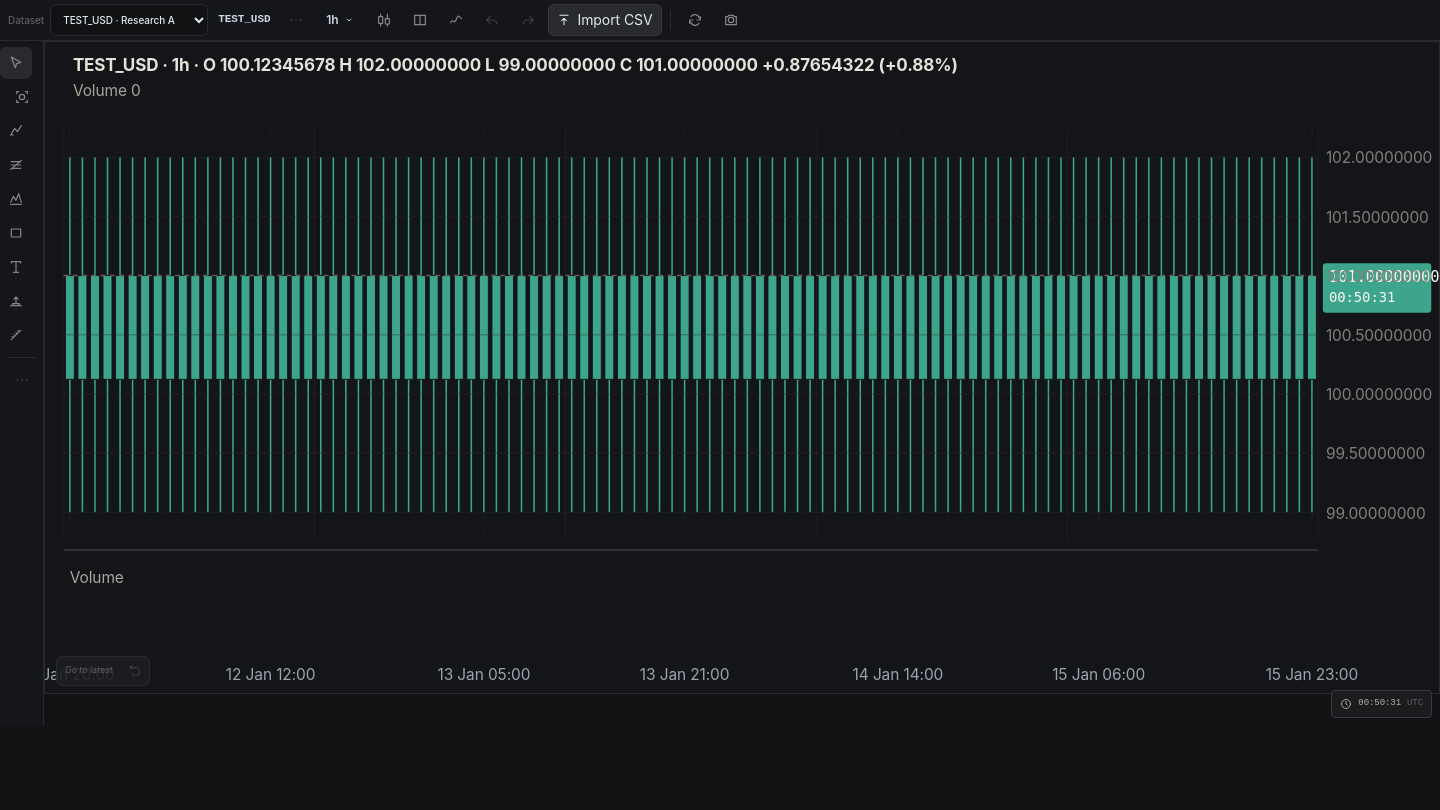
Test case: PB-006 private market UI (API contract mocks) › retains editable CSV after definite validation rejection and shows line diagnostics
Click the button "Import CSV" at point(605, 20), box [548,4,662,36]
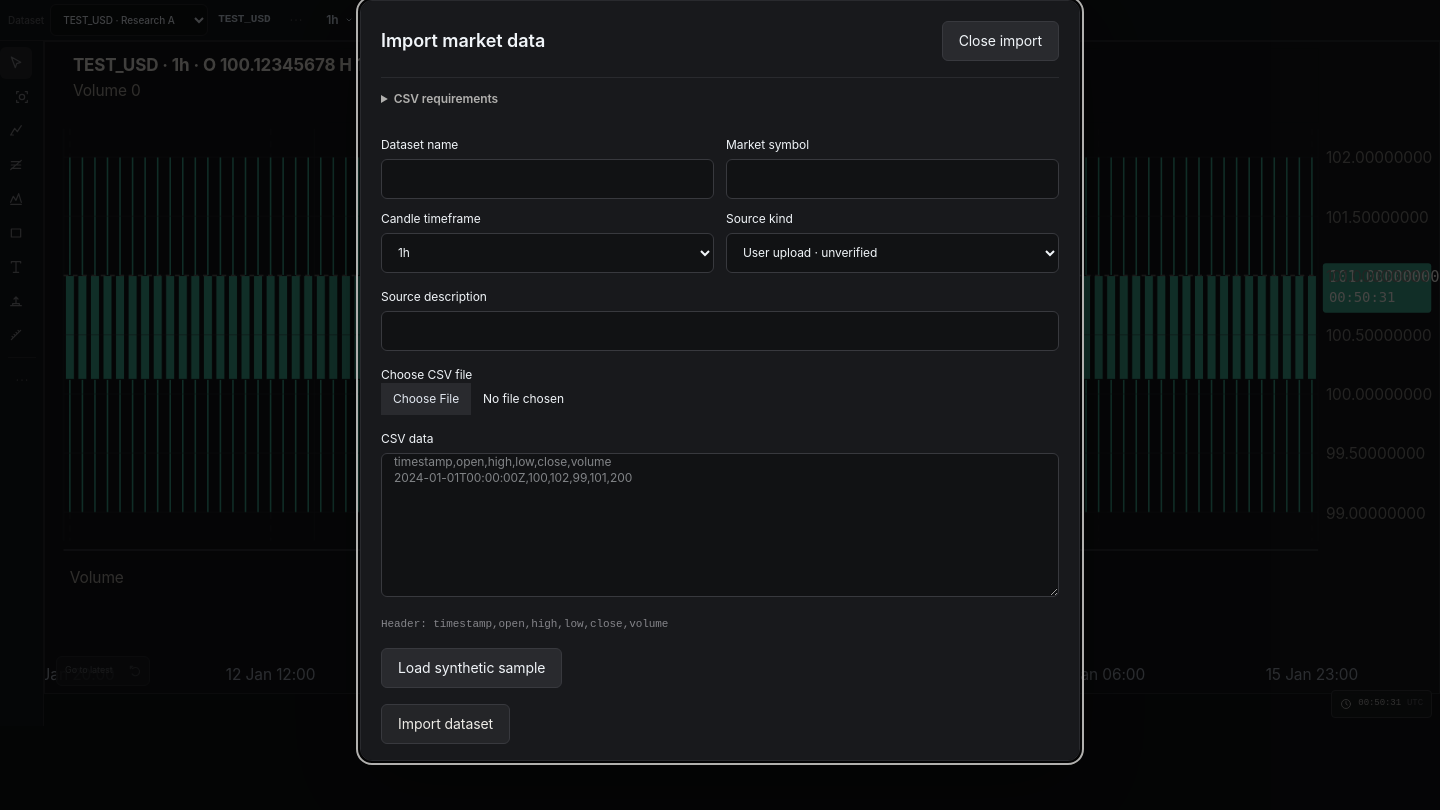
Click the button "Load synthetic sample" at point(472, 668), box [381,648,562,688]
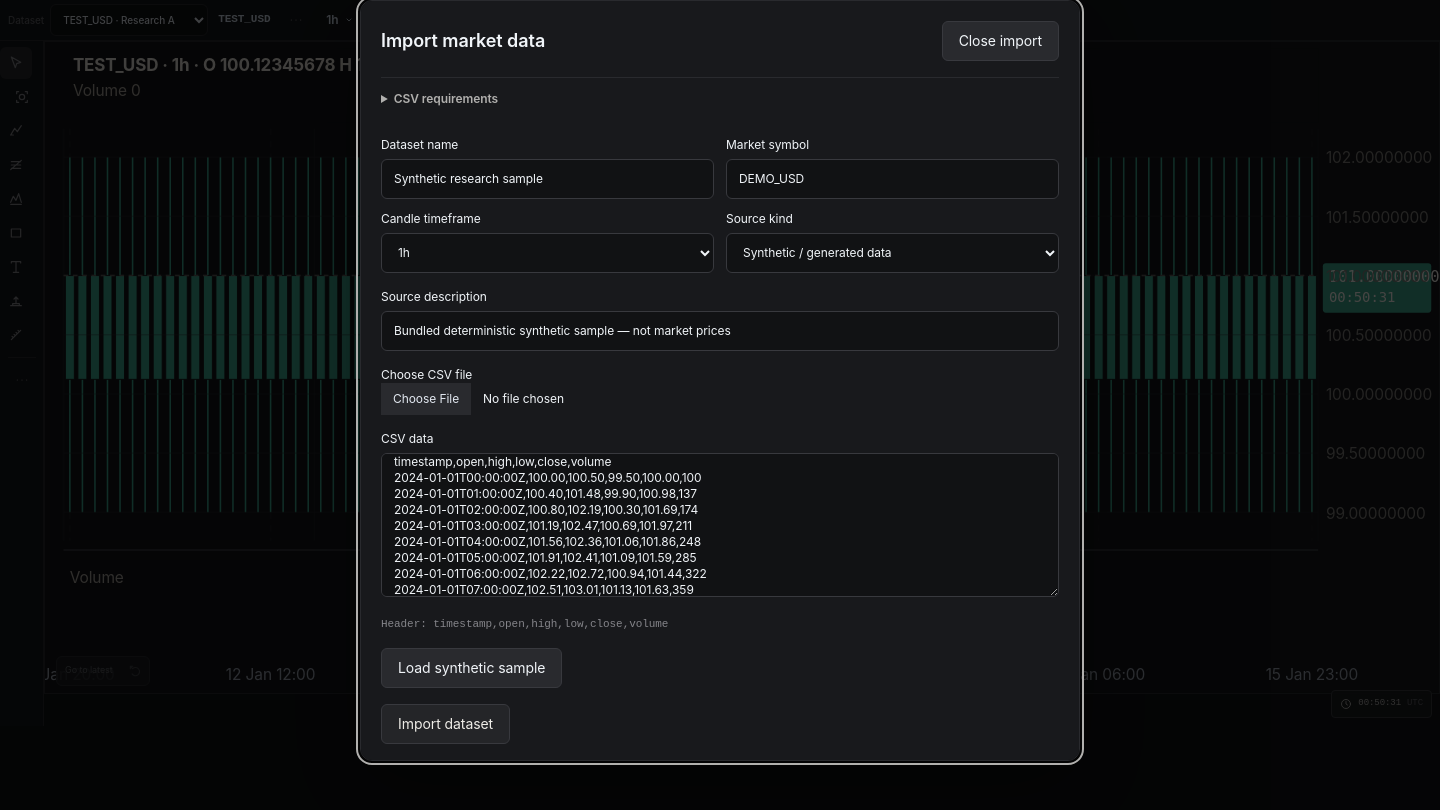
Click the button "Import dataset" at point(446, 724), box [381,704,510,744]
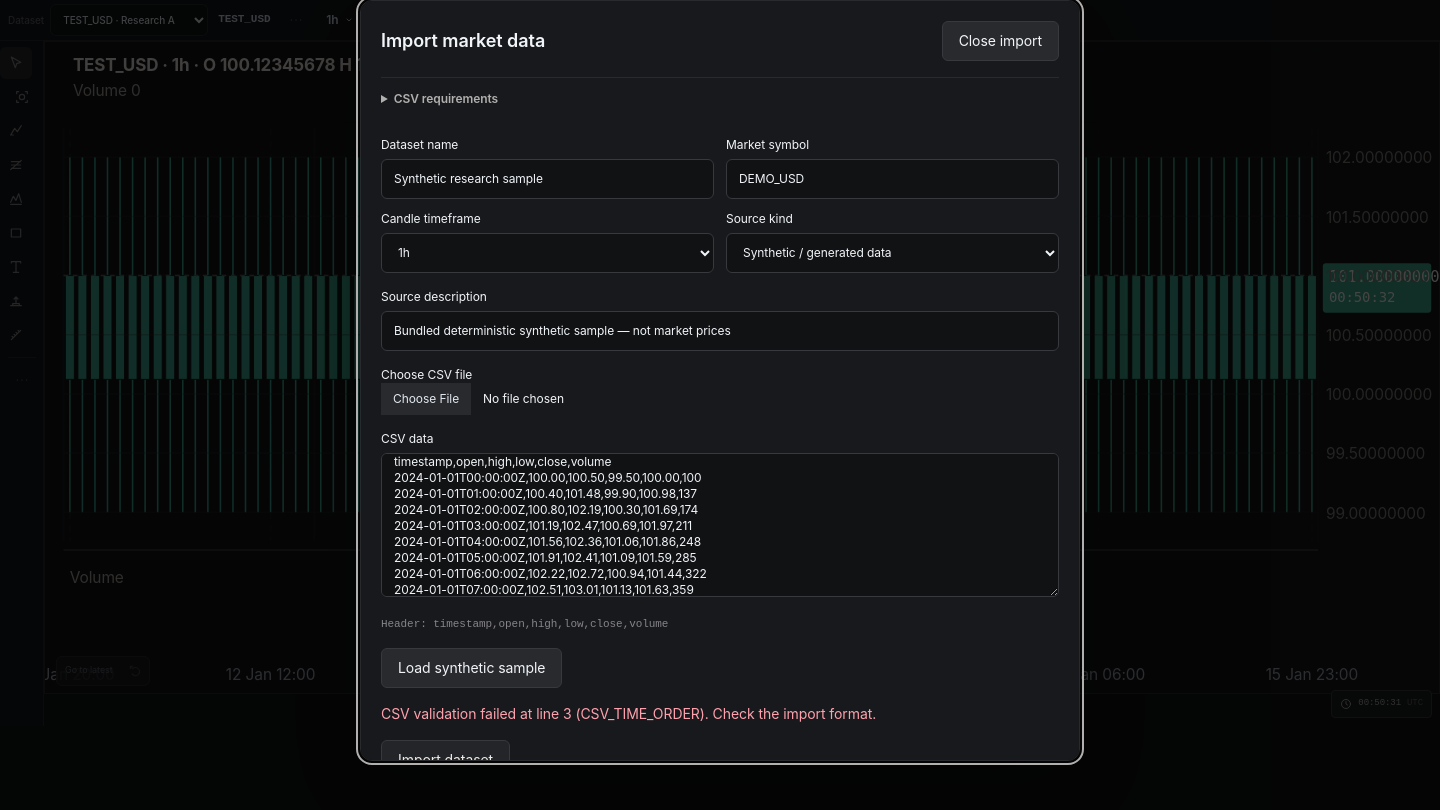
Expected: the text box labelled "CSV data" is enabled, [381,453,1059,597]
Expected: the message shows "line 3", [381,705,876,722]
Click the button "Close import" at point(1000, 41), box [942,21,1059,61]
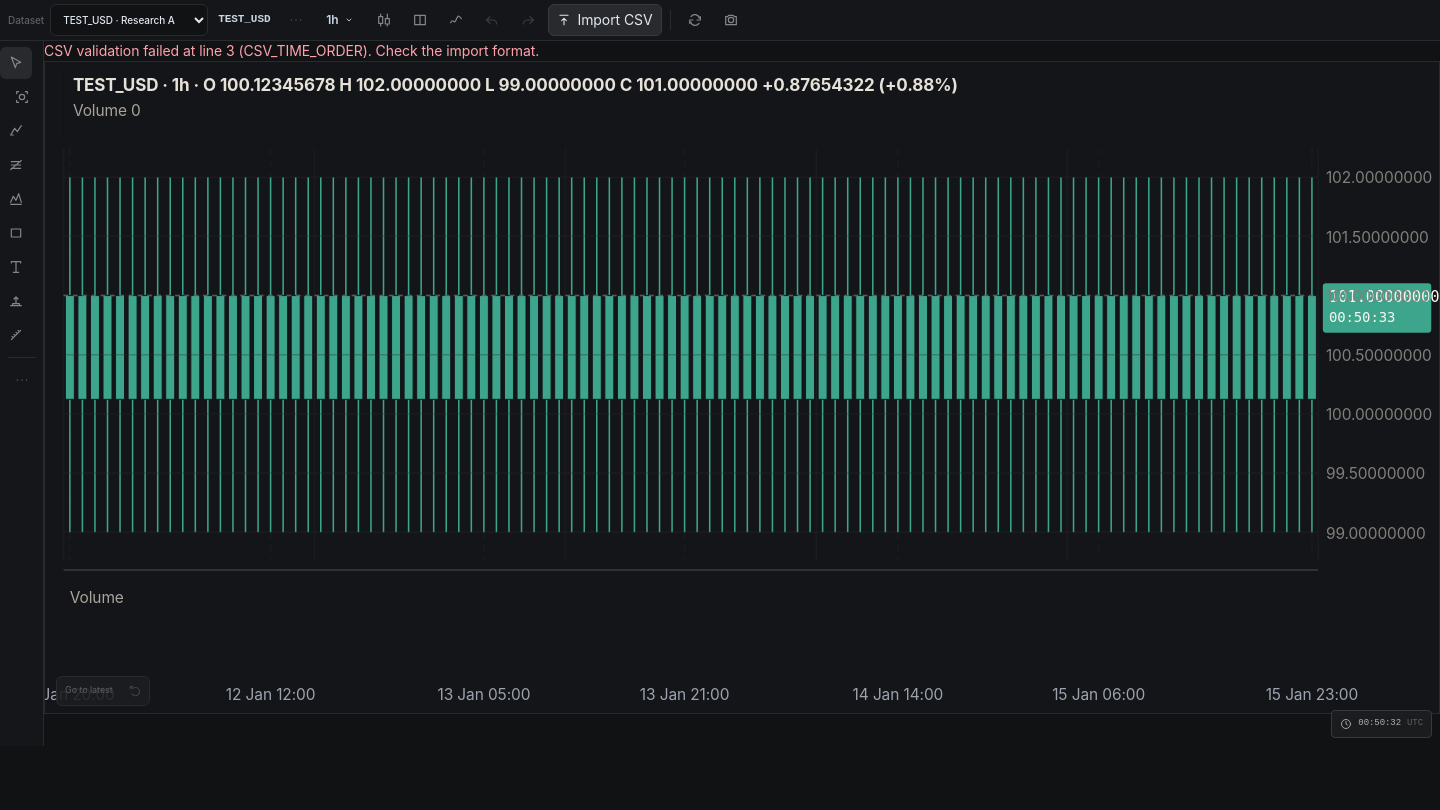
Expected: the heading "Import market data" is gone
